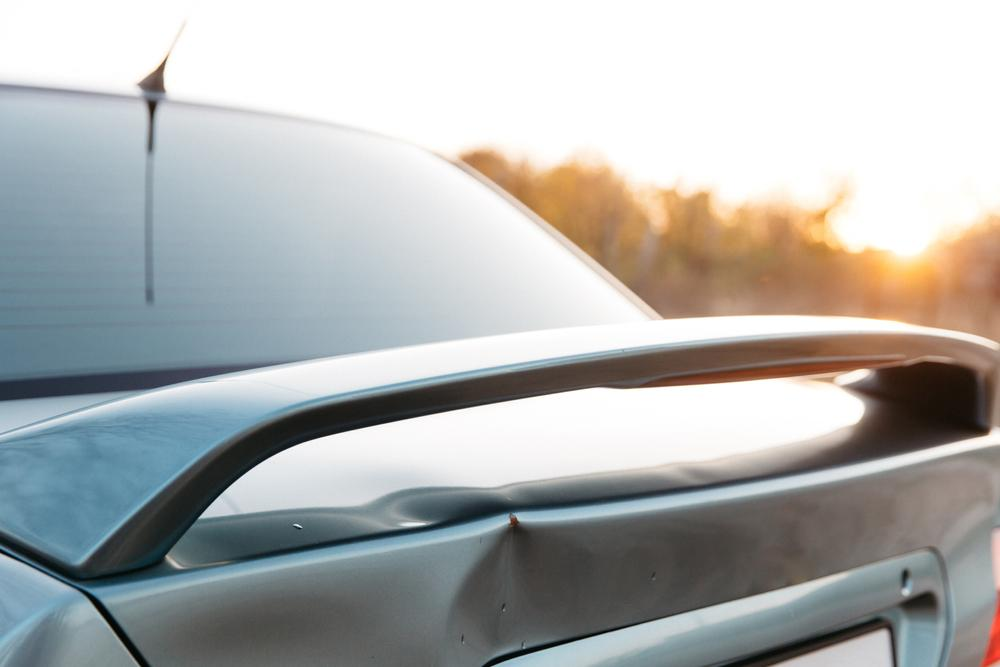dent: (447, 525, 618, 659)
